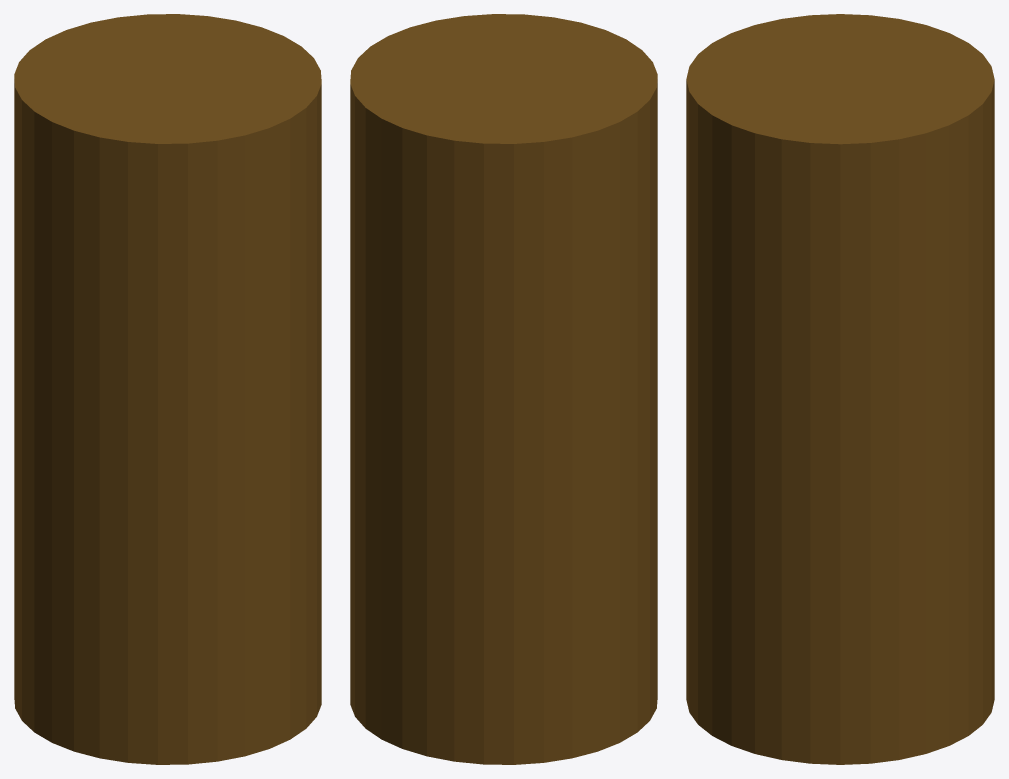
File: bcae0652-5a34-45e9-838c-a7d494d5d52e.glb
3 views of the same model, side by side, from view 1: azimuth 30°, elevation 25°; view 2: azimuth 150°, elevation 25°; view 3: azimuth 270°, elevation 25° (orthographic).
Visible parts, largest first — view 1: Cylinder; view 2: Cylinder; view 3: Cylinder.
Part boxes in pixels (x1,y1,x2,y2): Cylinder: (14, 14, 321, 764); Cylinder: (350, 14, 657, 764); Cylinder: (686, 14, 994, 764).
Bounding box in the file's own units: 0.36 × 0.8 × 0.36.
